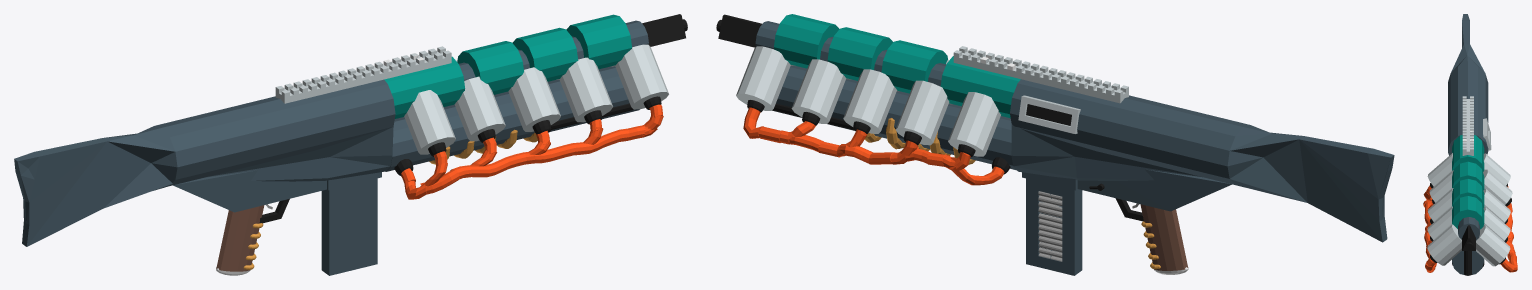
File: Coil Gun.glb
The picture shows the model from 3 angles, left to right: view 1: azimuth 30°, elevation 25°; view 2: azimuth 150°, elevation 25°; view 3: azimuth 270°, elevation 25°; orthographic projection. The views are drawn at different scales.
Parts seen in each view (by area): view 1: group247491669, group1904554140, group1516926612, group375765841, group566421478, group2095460028, group1327118298, group1866116027, group1824577645, group949866276, group1947802300, group1863454480 (+16 smaller); view 2: group247491669, group1904554140, group375765841, group1188936237, group566421478, group1516926612, group2095460028, group1866116027, group949866276, group1012465164, group1256159029, group1624715504 (+16 smaller); view 3: group1904554140, group1012465164, group1624715504, group317416324, group1256159029, group907120393, group949866276, group1866116027, group247491669, group1327118298, group1947802300, group1863454480 (+13 smaller).
Boxes of the visible parts, left/top/right/bottom form: group247491669: left=14, top=126, right=177, bottom=246; group1904554140: left=155, top=94, right=336, bottom=185; group1516926612: left=321, top=178, right=377, bottom=275; group375765841: left=205, top=127, right=393, bottom=181; group566421478: left=385, top=66, right=639, bottom=171; group2095460028: left=173, top=170, right=326, bottom=212; group1327118298: left=325, top=79, right=395, bottom=145; group1866116027: left=384, top=56, right=465, bottom=118; group1824577645: left=450, top=125, right=645, bottom=178; group949866276: left=566, top=14, right=631, bottom=69; group1947802300: left=457, top=41, right=523, bottom=94; group1863454480: left=512, top=27, right=578, bottom=81; group247491669: left=1227, top=125, right=1394, bottom=242; group1904554140: left=1070, top=93, right=1249, bottom=184; group375765841: left=1011, top=124, right=1202, bottom=180; group1188936237: left=743, top=107, right=1004, bottom=185; group566421478: left=774, top=66, right=1016, bottom=170; group1516926612: left=1026, top=178, right=1082, bottom=275; group2095460028: left=1077, top=169, right=1231, bottom=211; group1866116027: left=940, top=56, right=1020, bottom=118; group949866276: left=774, top=14, right=839, bottom=68; group1012465164: left=736, top=46, right=795, bottom=110; group1256159029: left=791, top=59, right=851, bottom=123; group1624715504: left=895, top=60, right=952, bottom=145; group1904554140: left=1448, top=64, right=1488, bottom=131; group1012465164: left=1427, top=224, right=1510, bottom=266; group1624715504: left=1429, top=169, right=1512, bottom=204; group317416324: left=1427, top=188, right=1510, bottom=222; group1256159029: left=1427, top=206, right=1510, bottom=240; group907120393: left=1427, top=153, right=1510, bottom=186; group949866276: left=1452, top=196, right=1484, bottom=229; group1866116027: left=1452, top=135, right=1484, bottom=171; group247491669: left=1451, top=14, right=1484, bottom=72; group1327118298: left=1448, top=116, right=1488, bottom=155; group1947802300: left=1452, top=161, right=1484, bottom=190; group1863454480: left=1452, top=179, right=1484, bottom=207.
Size of the model in its own units: 2.5 by 0.69 by 0.4685.
